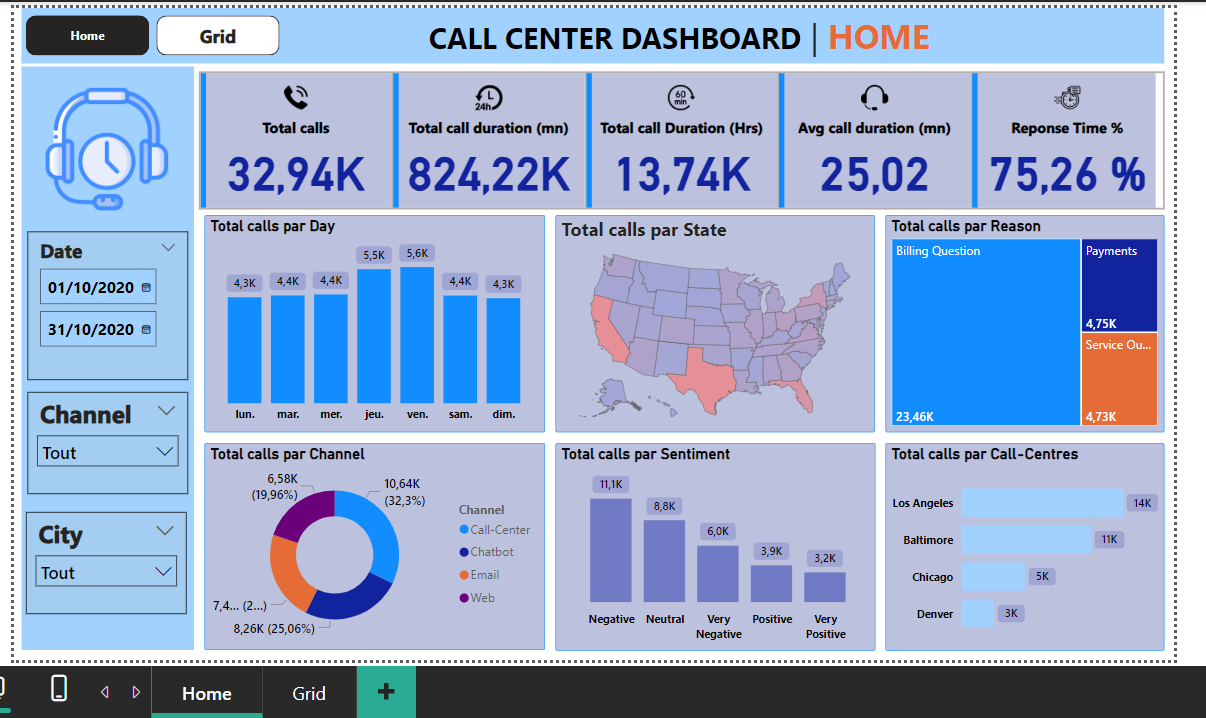

The page's visual inventory and layout, read from the dashboard file:
{"tool":"powerbi","page":{"name":"Home","canvas":[1280,720],"ordinal":0},"visuals":[{"type":"shape","box":[8.3,64.6,190.5,644.4],"z":0},{"type":"shape","box":[8.3,0,1262.2,61.3],"z":1000},{"type":"cardVisual","fields":{"Data":["Call Center_Call Center.Total calls","Call Center_Call Center.Total call duration (mn)","Call Center_Call Center.Total call Duration (Hrs)","Call Center_Call Center.Avg call duration (mn)","Call Center_Call Center.Reponse Time %"]},"box":[198.8,64.6,1081.7,164],"z":2000},{"type":"textbox","box":[198.8,0,1071.7,59.6],"z":3000},{"type":"columnChart","fields":{"Category":["Date.Day"],"Y":["Call Center_Call Center.Total calls"]},"box":[210.4,228.6,376,240.2],"z":4000},{"type":"shapeMap","fields":{"Category":["Call Center_Call Center.State"],"Value":["Call Center_Call Center.Total calls"]},"box":[598,228.6,352.8,240.2],"z":5000},{"type":"treemap","fields":{"Group":["Call Center_Call Center.Reason"],"Values":["Call Center_Call Center.Total calls"]},"box":[962.4,228.6,308.1,240.2],"z":6000},{"type":"donutChart","fields":{"Category":["Call Center_Call Center.Channel"],"Y":["Call Center_Call Center.Total calls"]},"box":[210.4,480.4,376,228.6],"z":7000},{"type":"columnChart","fields":{"Y":["Call Center_Call Center.Total calls"],"Category":["Call Center_Call Center.Sentiment"]},"box":[598,480,353,229],"z":8000},{"type":"barChart","fields":{"Category":["Call Center_Call Center.Call-Centres City"],"Y":["Call Center_Call Center.Total calls"]},"box":[962,480,308,229],"z":9000},{"type":"slicer","fields":{"Values":["Date.Date"]},"box":[14.9,246.8,177.2,164],"z":10500},{"type":"slicer","fields":{"Values":["Call Center_Call Center.Channel"]},"box":[14.9,424.1,177.2,112.6],"z":10501},{"type":"slicer","fields":{"Values":["Call Center_Call Center.City"]},"box":[13.3,556.6,177.2,112.6],"z":10502},{"type":"image","box":[14.9,82.8,175.6,145.8],"z":10503},{"type":"pageNavigator","box":[13.3,8.3,281.6,44.7],"z":10504}]}

Visuals, with their boxes on the page's 1280x720 design canvas (x1, y1, x2, y2). These are canvas units, not pixel positions in the 1206x718 screenshot, which may show the page scaled, cropped or inside an application window:
shape: l=8, t=65, r=199, b=709
shape: l=8, t=0, r=1270, b=61
cardVisual - Call Center_Call Center.Total calls x Call Center_Call Center.Total call duration (mn): l=199, t=65, r=1280, b=229
textbox: l=199, t=0, r=1270, b=60
columnChart - Date.Day x Call Center_Call Center.Total calls: l=210, t=229, r=586, b=469
shapeMap - Call Center_Call Center.State x Call Center_Call Center.Total calls: l=598, t=229, r=951, b=469
treemap - Call Center_Call Center.Reason x Call Center_Call Center.Total calls: l=962, t=229, r=1270, b=469
donutChart - Call Center_Call Center.Channel x Call Center_Call Center.Total calls: l=210, t=480, r=586, b=709
columnChart - Call Center_Call Center.Total calls x Call Center_Call Center.Sentiment: l=598, t=480, r=951, b=709
barChart - Call Center_Call Center.Call-Centres City x Call Center_Call Center.Total calls: l=962, t=480, r=1270, b=709
slicer - Date.Date: l=15, t=247, r=192, b=411
slicer - Call Center_Call Center.Channel: l=15, t=424, r=192, b=537
slicer - Call Center_Call Center.City: l=13, t=557, r=190, b=669
image: l=15, t=83, r=190, b=229
pageNavigator: l=13, t=8, r=295, b=53
